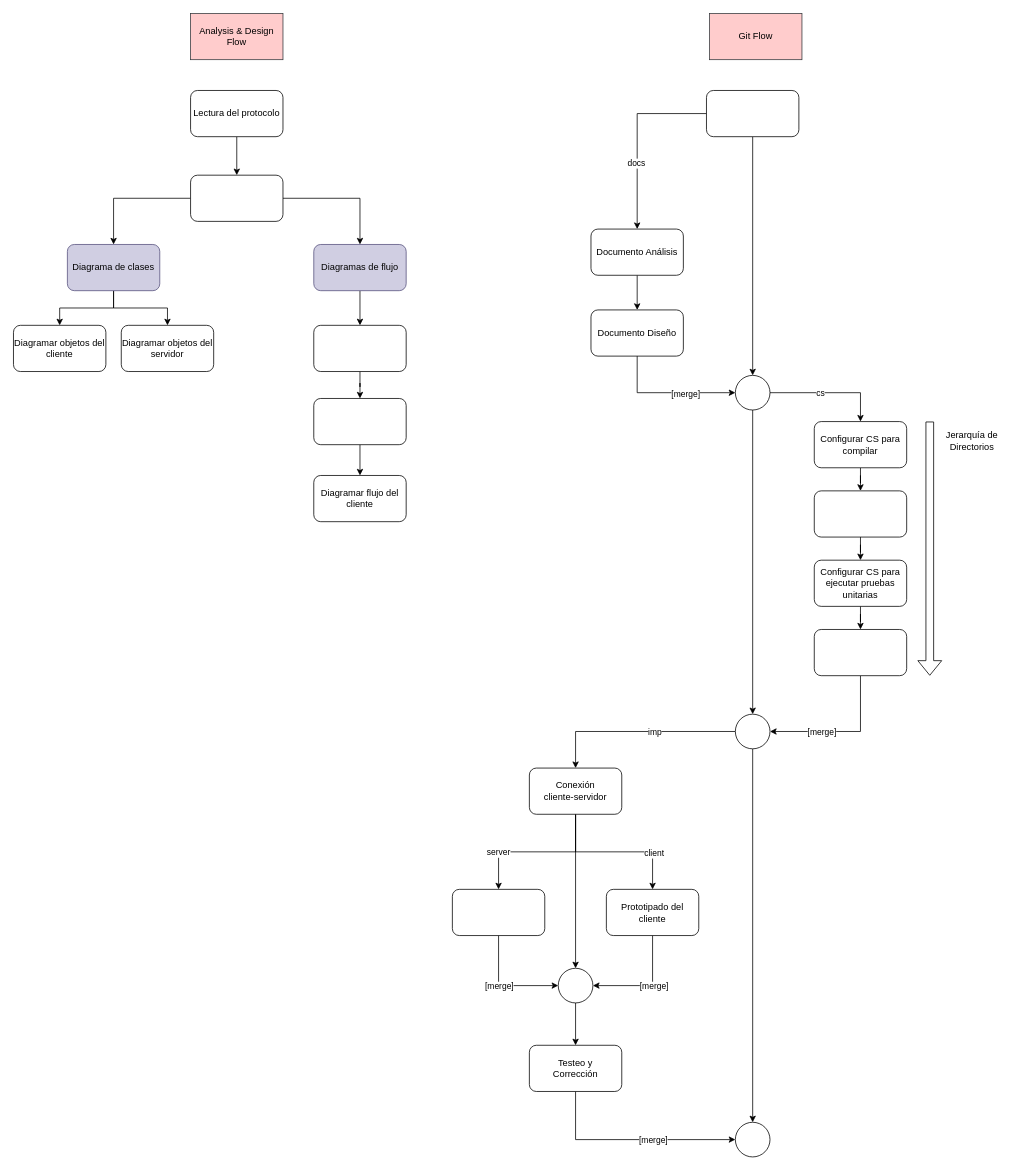
Some shapes in this 1013 by 1170 pixel diagram are drawn without their labels. Here are the shapes that lost their labels. From the top down, the centre of each, then its label:
point 752,113: Crear Repositorio
point 236,197: Análisis de responsabilidades y estructura
point 359,348: Diagramar interacción cliente-servidor
point 359,421: Diagramar flujo del servidor
point 860,513: Configurar CS para generar documentación
point 860,652: Integración Continua en la nube
point 498,912: Prototipado del servidor
